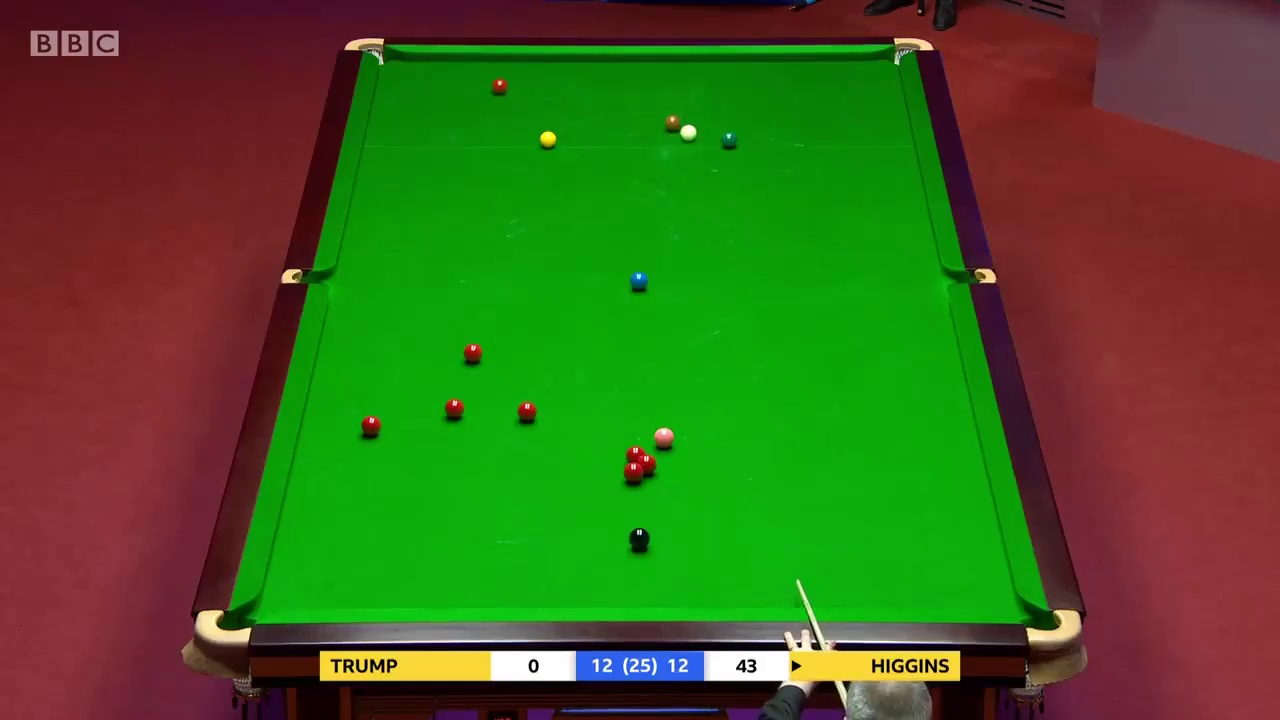ball: (360, 416, 382, 439), (628, 526, 650, 549), (443, 398, 464, 420), (679, 119, 697, 143), (720, 130, 741, 150), (652, 426, 671, 447), (463, 343, 482, 363), (517, 401, 535, 422), (624, 461, 642, 482), (629, 270, 647, 290), (538, 130, 556, 148), (491, 74, 507, 93)
